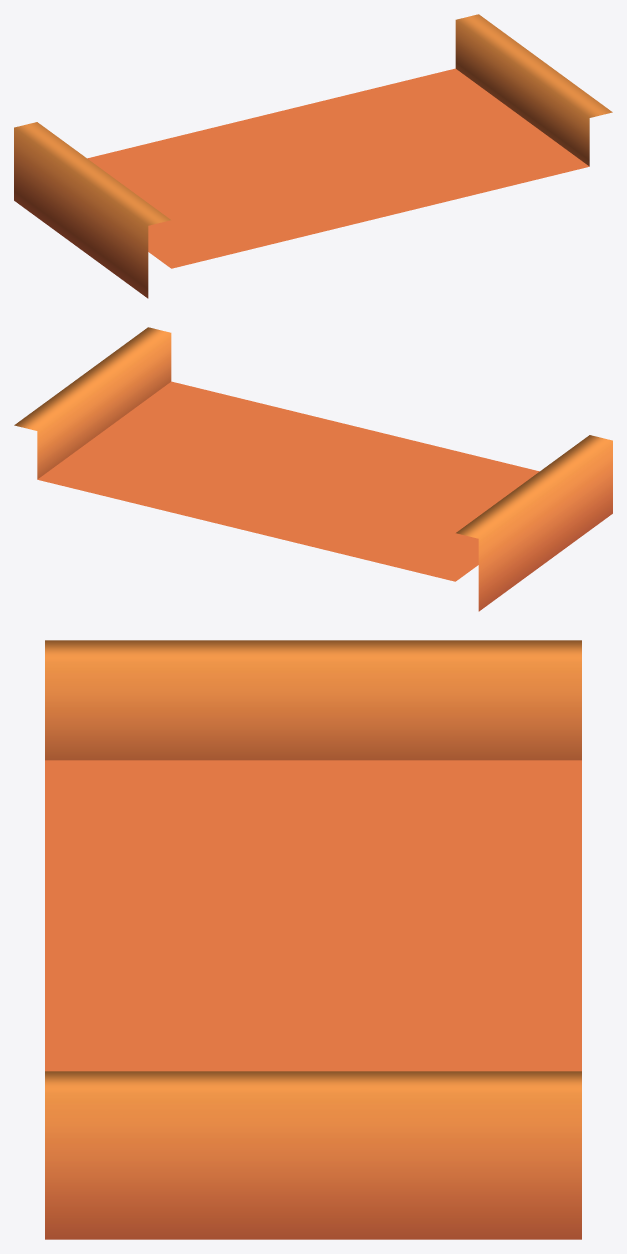
Rendered from kenney-toy-car-track-wide.glb.
3 renders of one model, top to bottom at view 1: azimuth 30°, elevation 25°; view 2: azimuth 150°, elevation 25°; view 3: azimuth 270°, elevation 25°, orthographic. The views are drawn at different scales.
Visible parts, largest first — view 1: track-wide; view 2: track-wide; view 3: track-wide.
Boxes of the visible parts, x1,y1,x2,y2 form: track-wide: (14,14,612,298); track-wide: (14,327,612,611); track-wide: (45,640,581,1239).
Size of the model in its own units: 2 by 0.3001 by 1.
1 material, 1 textured.
